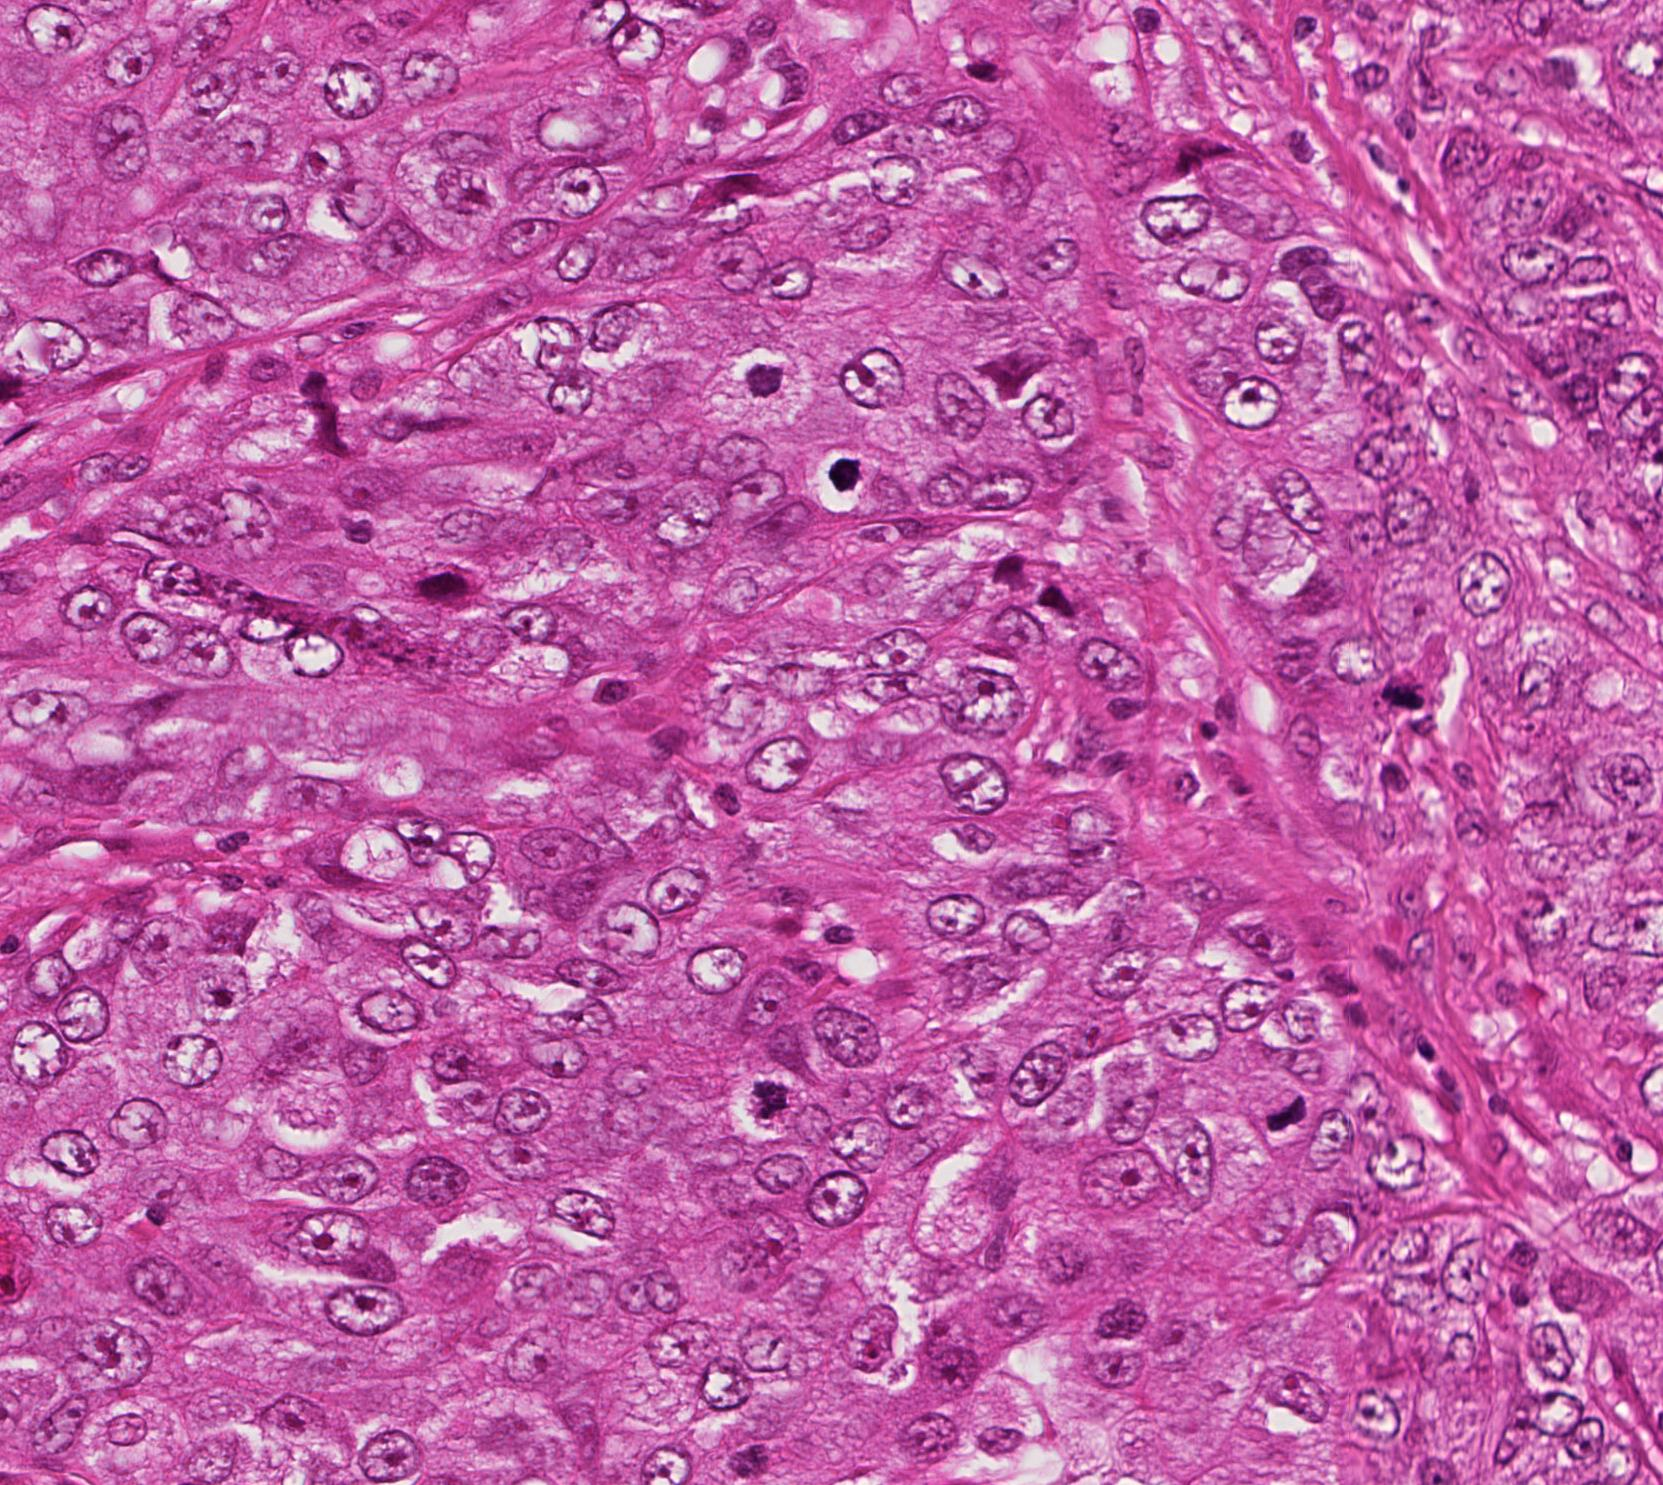mitosis: (744, 1069, 804, 1130), (1252, 1087, 1310, 1147)
